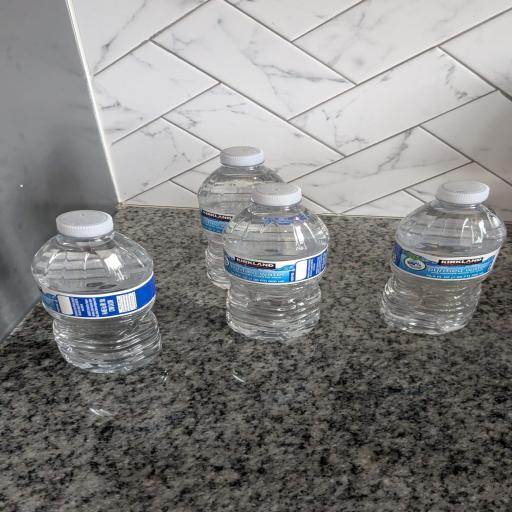waterbottle: (33, 211, 161, 372), (382, 182, 506, 334), (224, 184, 329, 340), (198, 147, 282, 288)
